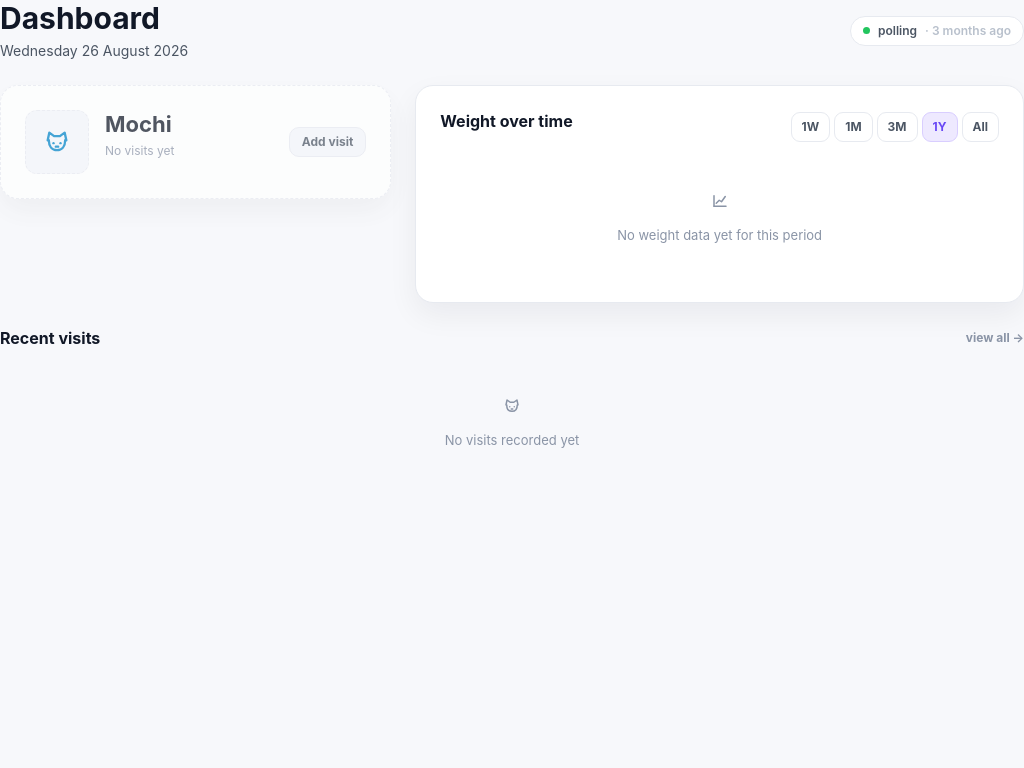
Dashboard › shows active cats without visits as contextual placeholders
The width and height of the screenshot is (1024, 768).
Expected: the text "Mochi" is shown, [105,110,174,138]
Expected: the text "No visits yet" is shown, [105,142,174,160]
Step 1. Click the button "Add visit" → (328,142), box [289,127,366,157]
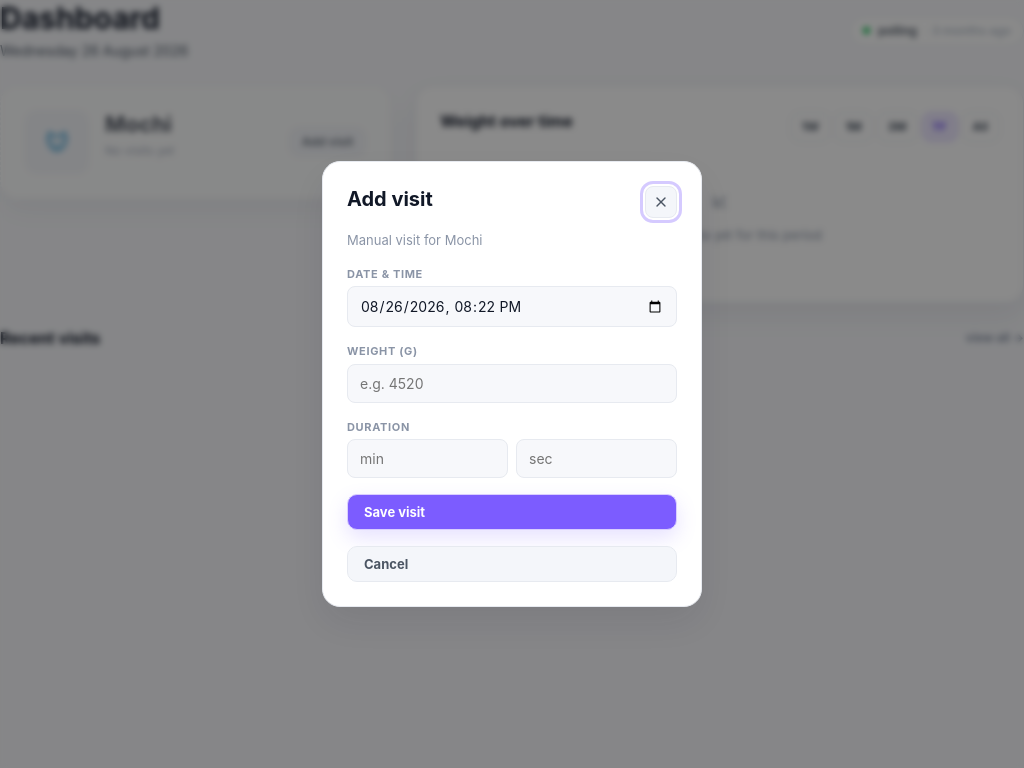
Now the text "Manual visit for Mochi" is shown, box [347,232,482,248]
